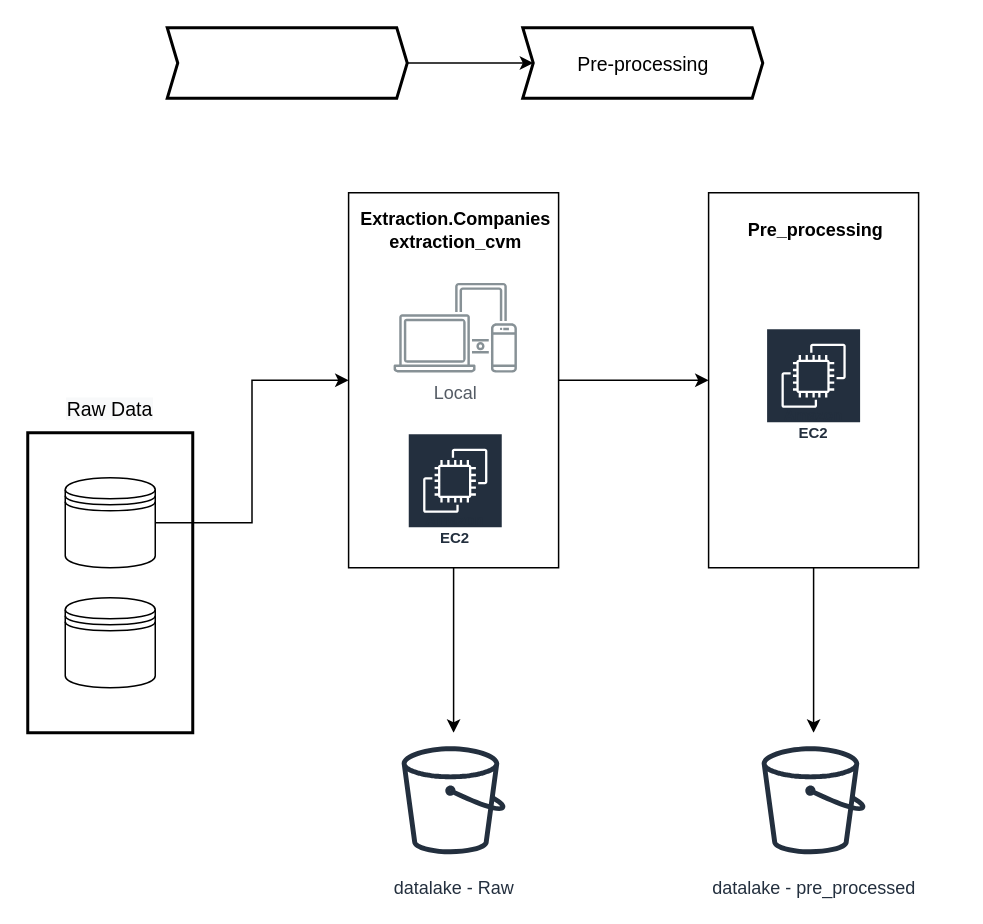
This 983x924 diagram has some shape labels left out. The centre of each missing label's shape, as x and y in pixels:
b3: the point at 109,642
CVM: the point at 109,522
Raw Data Ingestion: the point at 286,62
